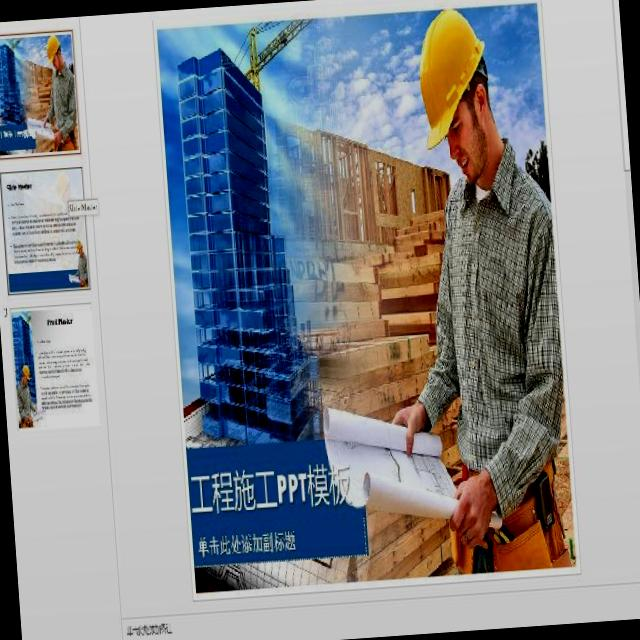helmet: (407, 10, 498, 143)
no-vest: (440, 176, 572, 497)
